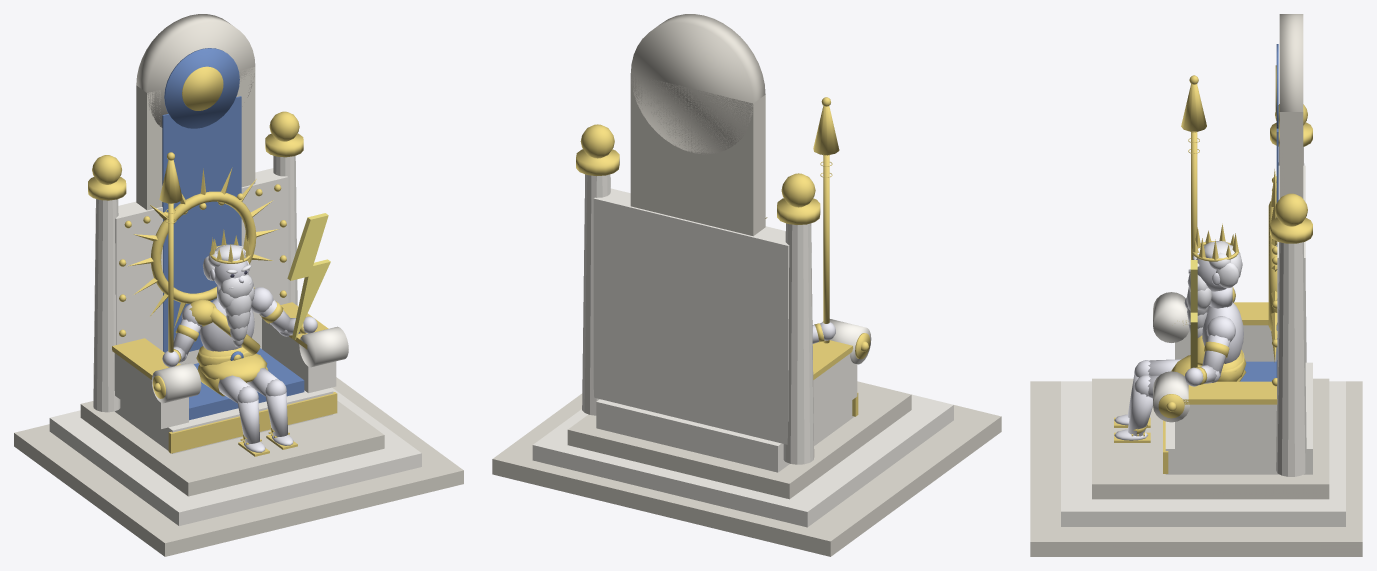
Rendered from zeus.glb.
3 views of the same model, side by side, from view 1: azimuth 30°, elevation 25°; view 2: azimuth 150°, elevation 25°; view 3: azimuth 270°, elevation 25° (orthographic). The views are drawn at different scales.
Visible parts, largest first — view 1: zeus_trono; view 2: zeus_trono; view 3: zeus_trono.
Part boxes in pixels (left/top/right/bottom): zeus_trono: left=14, top=14, right=463, bottom=556; zeus_trono: left=492, top=14, right=1001, bottom=556; zeus_trono: left=1030, top=14, right=1362, bottom=556.
Size of the model in its own units: 16 by 21.2 by 14.
